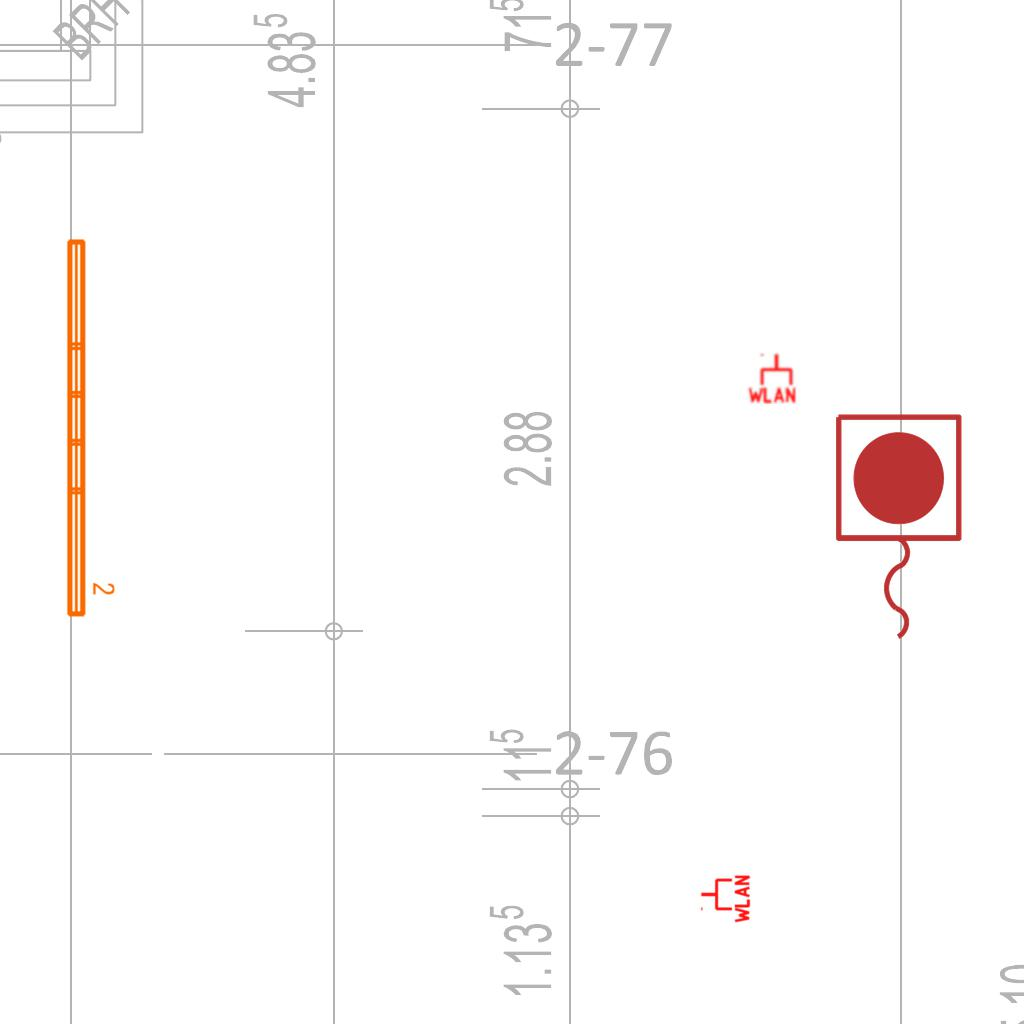Ambulanz_Pendelleuchte_LED: (61, 234, 117, 621)
WLAN: (699, 873, 751, 925), (746, 352, 798, 404)
Zugtaster: (825, 406, 969, 650)
